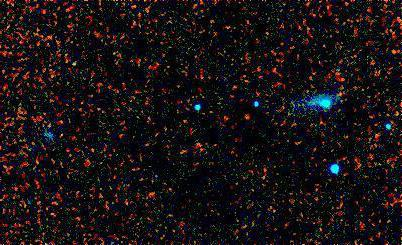star: (234, 104, 264, 134)
